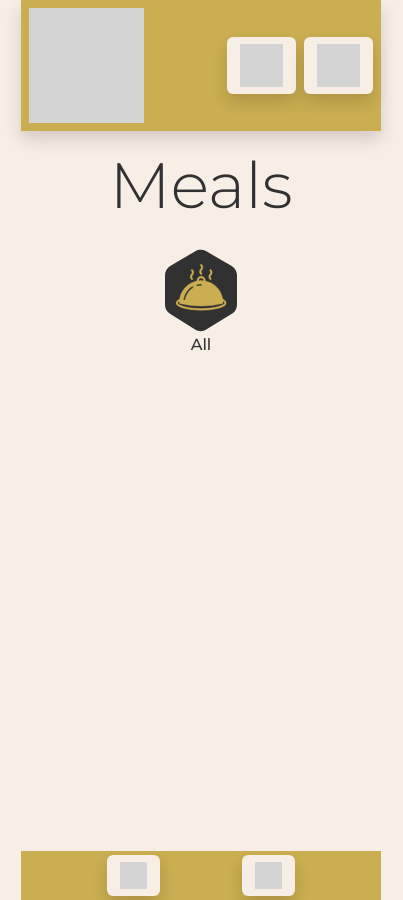
Testa o Header por completo › Verifica se a função handleSearch funciona
Click the button with test id "search-top-btn" at (262, 65), box [227,37,296,94]
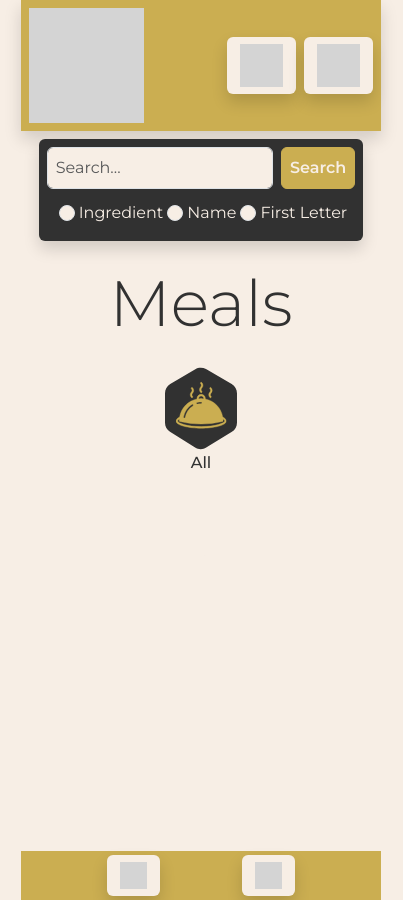
Expected: the field with test id "search-input" is shown, [47,147,273,189]
